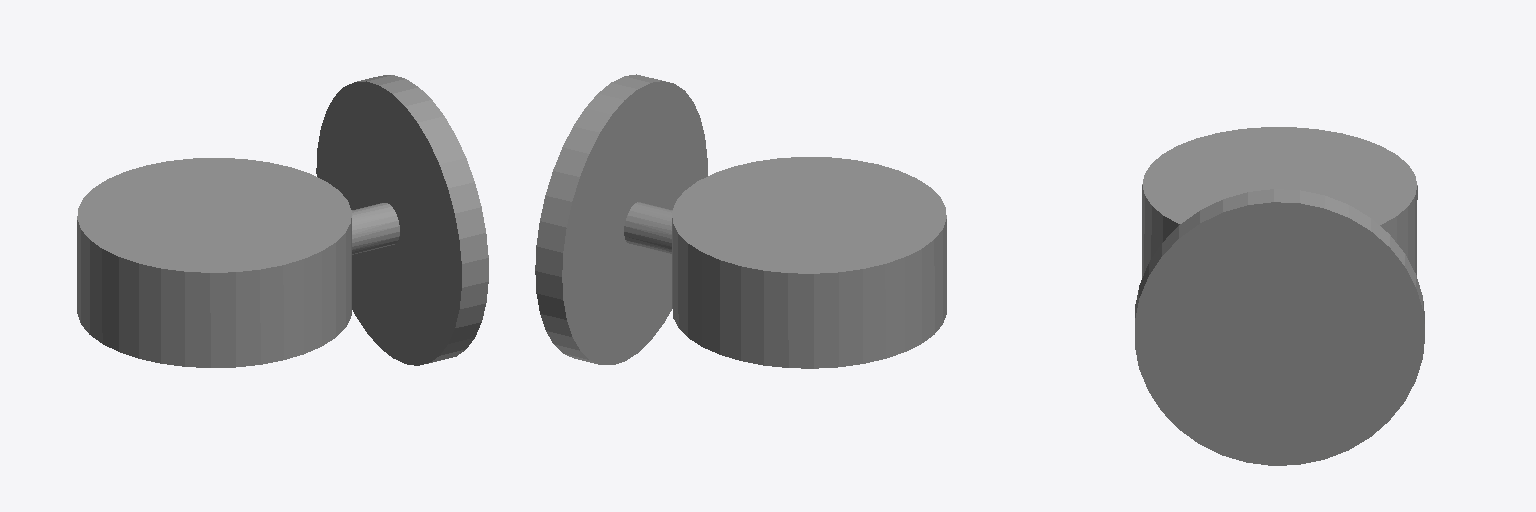
3 renders of one model, left to right at view 1: azimuth 30°, elevation 25°; view 2: azimuth 150°, elevation 25°; view 3: azimuth 270°, elevation 25°, orthographic.
Visible parts, largest first — view 1: MeshBody8; view 2: MeshBody8; view 3: MeshBody8.
Part boxes in pixels (x1,y1,x2,y2): MeshBody8: (77,75,488,367); MeshBody8: (535,74,946,368); MeshBody8: (1135,127,1424,465).
Size of the model in its own units: 0.0951 by 0.0749 by 0.0749.